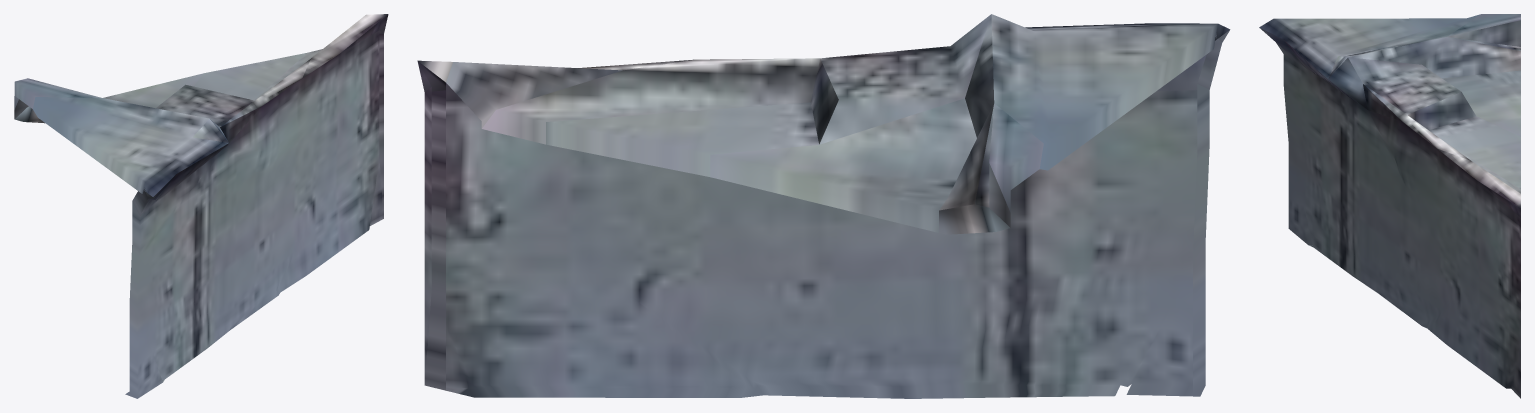
The picture shows the model from 3 angles, left to right: view 1: azimuth 30°, elevation 25°; view 2: azimuth 150°, elevation 25°; view 3: azimuth 270°, elevation 25°; orthographic projection. The views are drawn at different scales.
Parts seen in each view (by area): view 1: 30436272704361636437_0; view 2: 30436272704361636437_0; view 3: 30436272704361636437_0.
Boxes of the visible parts, left/top/right/bottom form: 30436272704361636437_0: left=14, top=14, right=388, bottom=398; 30436272704361636437_0: left=417, top=14, right=1230, bottom=398; 30436272704361636437_0: left=1259, top=14, right=1520, bottom=398.
Size of the model in its own units: 12.88 by 7.55 by 8.18.
1 material, 1 textured.
